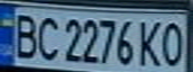2: (60, 15, 84, 64), (78, 15, 100, 64)
6: (115, 17, 139, 66)
7: (97, 16, 118, 65)
B: (6, 10, 42, 61)
C: (33, 12, 60, 62)
K: (136, 17, 166, 68)
O: (157, 18, 190, 68)
